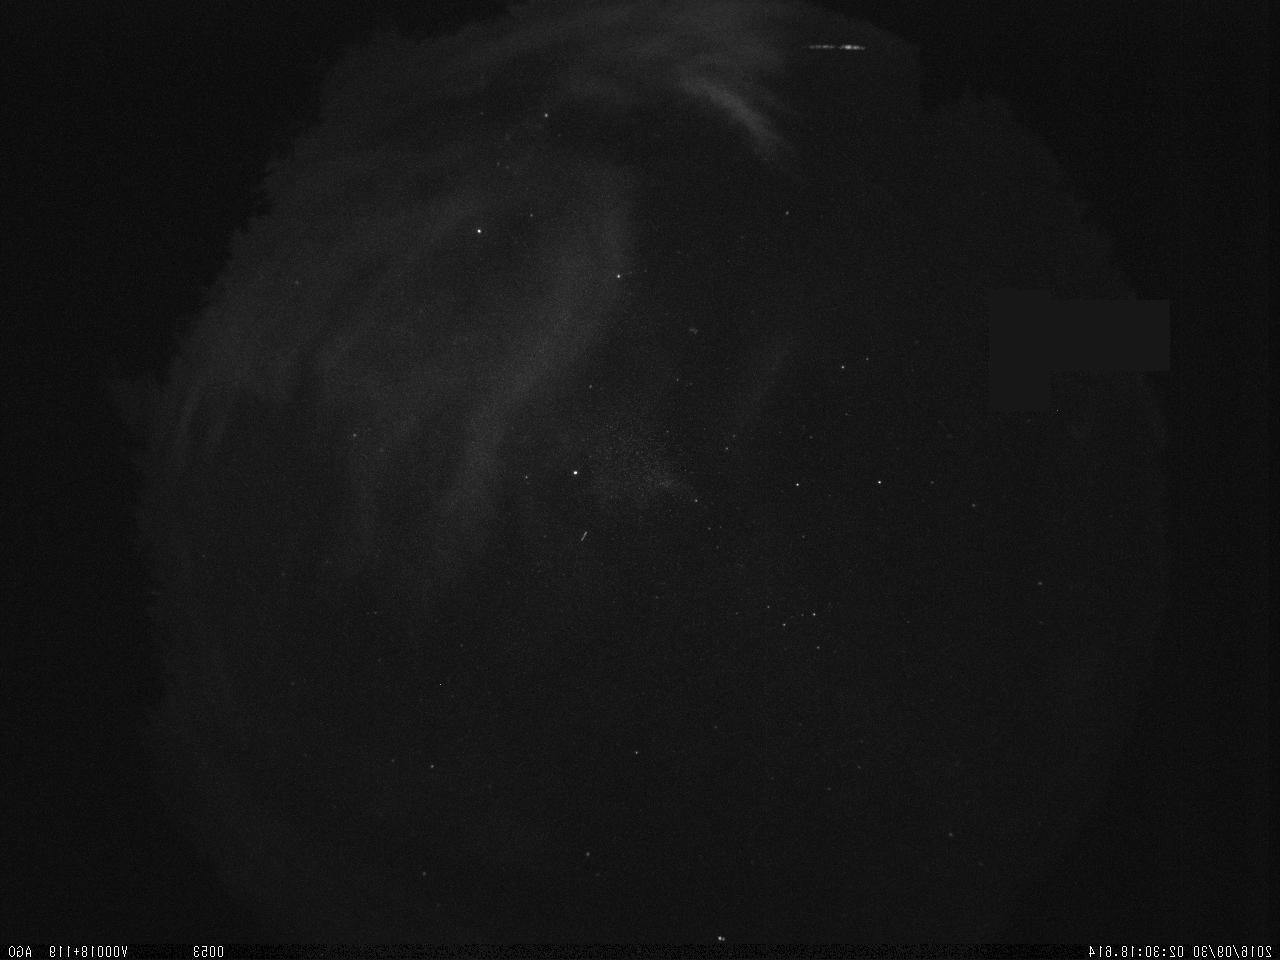meteor: (785, 36, 885, 63)
